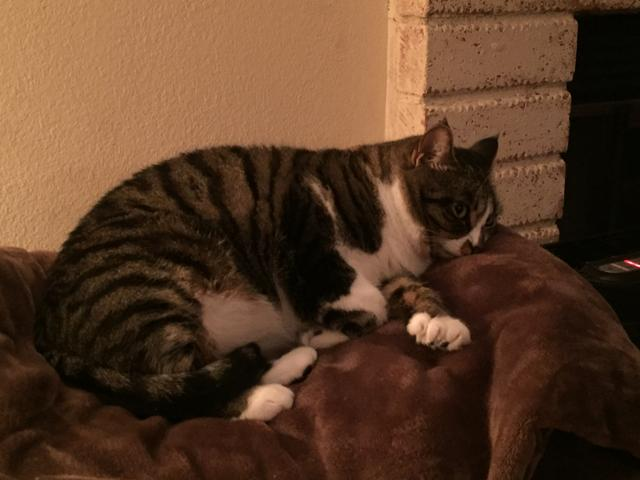playdoh: (37, 116, 502, 423)
